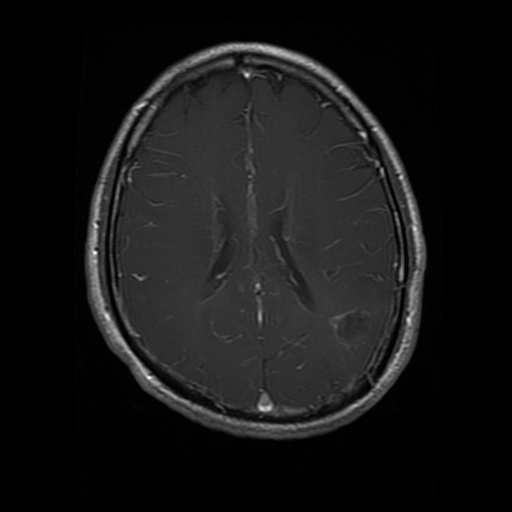glioma: (329, 304, 372, 349)
